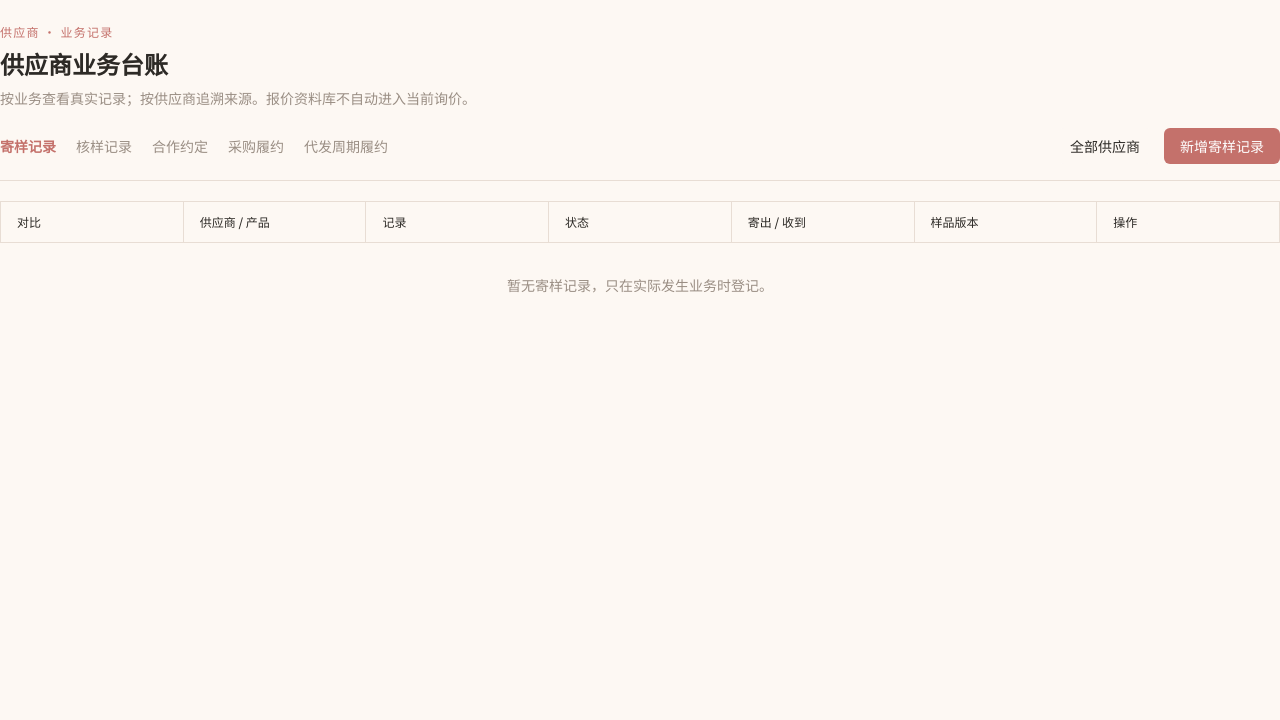
shows weekly dropship performance with sample gates, weighted overview and risks
Click the button "代发周期履约": (346, 146) [304,136,388,156]
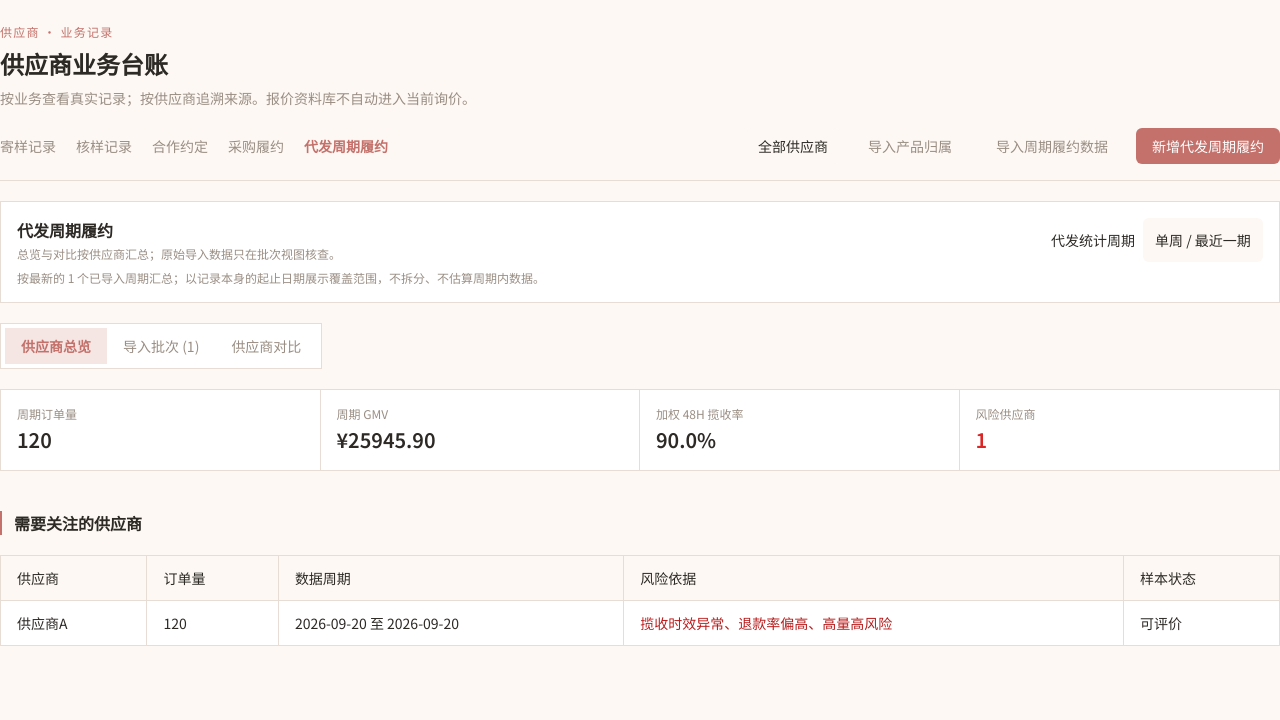
Check: the text "周期订单量" is shown, box [17,405,77,422]
Check: the text "120" is shown, box [17,425,52,454]
Check: the heading "需要关注的供应商" is shown, box [0,511,142,535]
Click the tab "供应商对比": (266, 346) [215,328,317,364]
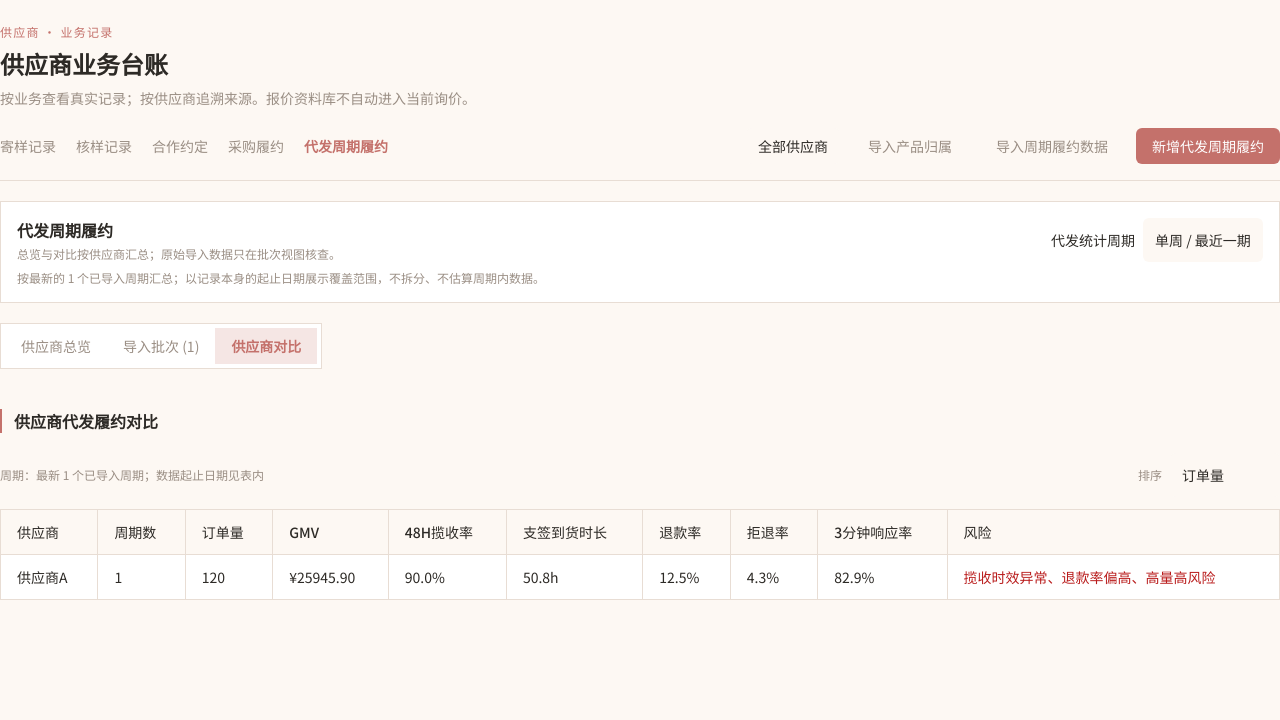
Check: the table named "供应商代发对比" is shown, box [0,509,1279,600]
Click the button "新增代发周期履约": (1208, 146) [1136,128,1279,164]
(page scrolled)
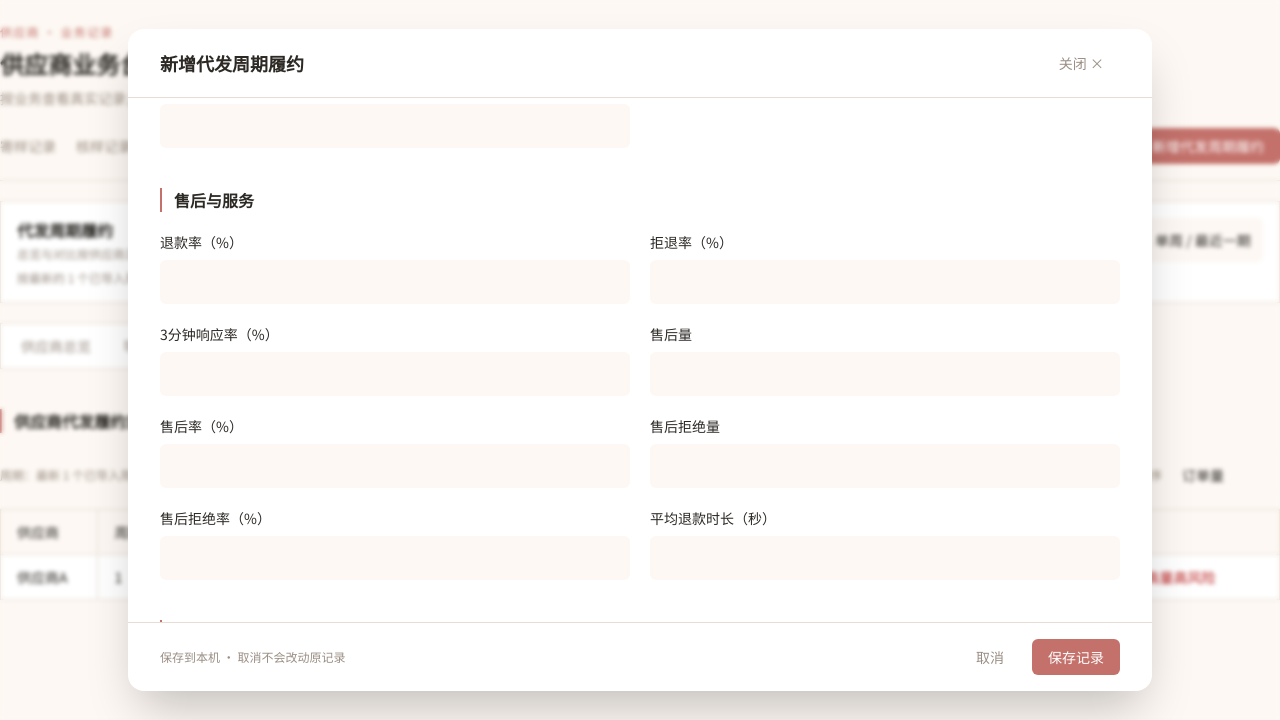
Check: the text "3分钟响应率（%）" is shown, box [160,324,630,396]
